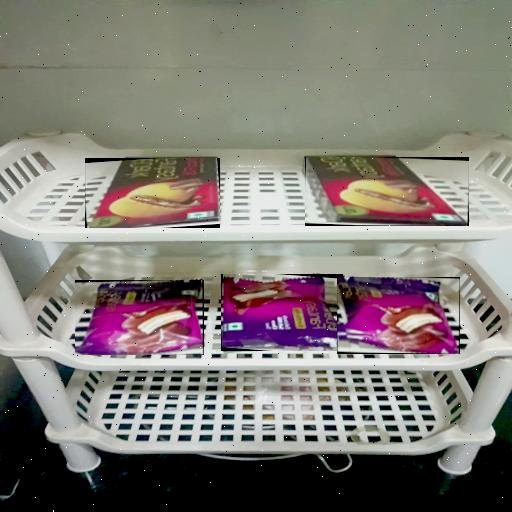Choco Fills: (305, 157, 469, 226), (85, 158, 220, 228)
Choco Pie: (75, 280, 204, 355), (337, 277, 460, 354), (221, 274, 343, 351)
